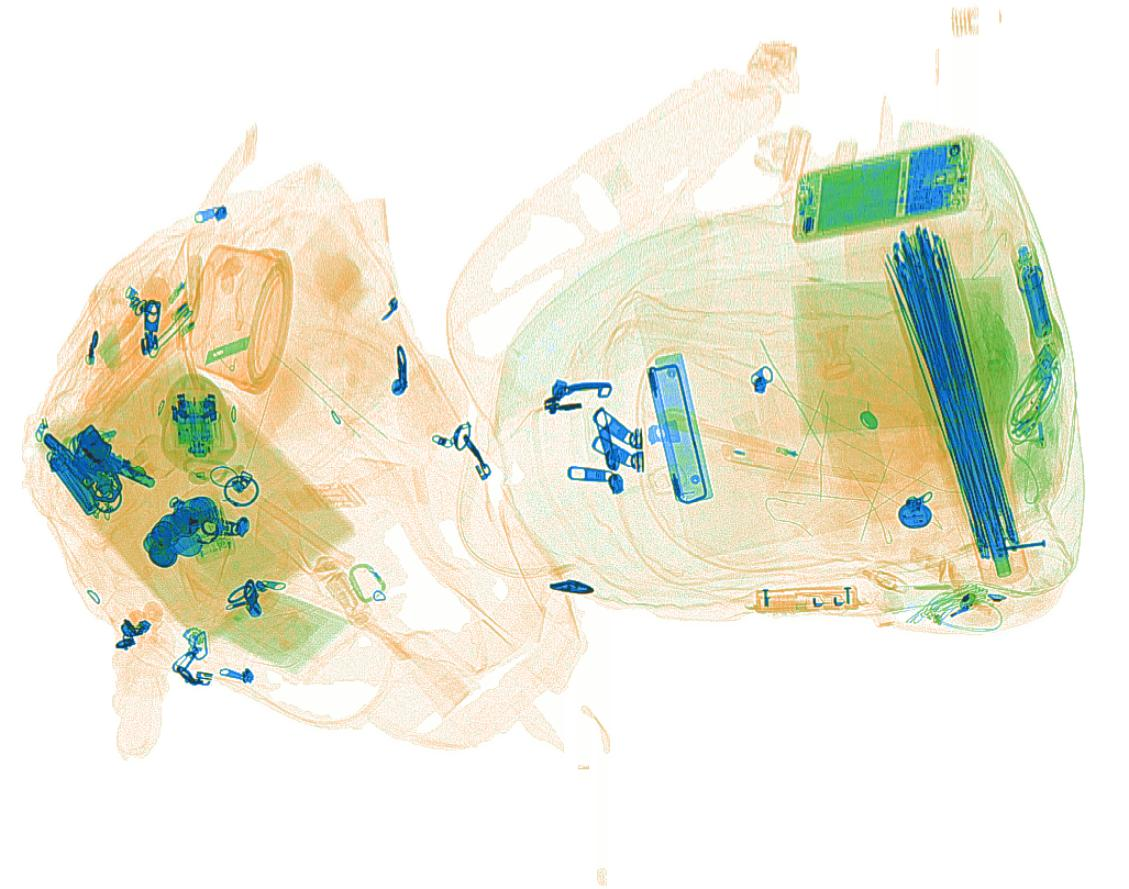battery: (1016, 262, 1055, 339)
